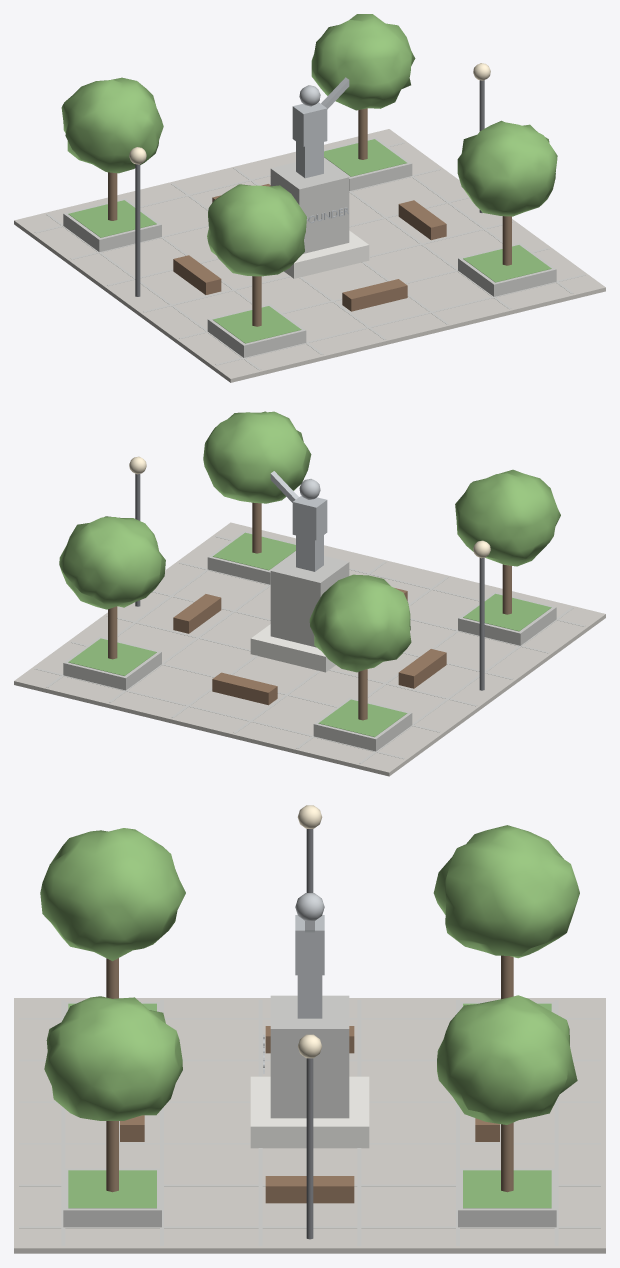
Rendered from plaza.glb.
The picture shows the model from 3 angles, top to bottom: view 1: azimuth 30°, elevation 25°; view 2: azimuth 150°, elevation 25°; view 3: azimuth 270°, elevation 25°; orthographic projection. The views are drawn at different scales.
Parts seen in each view (by area): view 1: plaza; view 2: plaza; view 3: plaza.
Boxes of the visible parts, x1,y1,x2,y2 form: plaza: [14, 14, 605, 382]; plaza: [14, 411, 605, 776]; plaza: [14, 805, 605, 1253].
Size of the model in its own units: 12 by 5.25 by 12.
